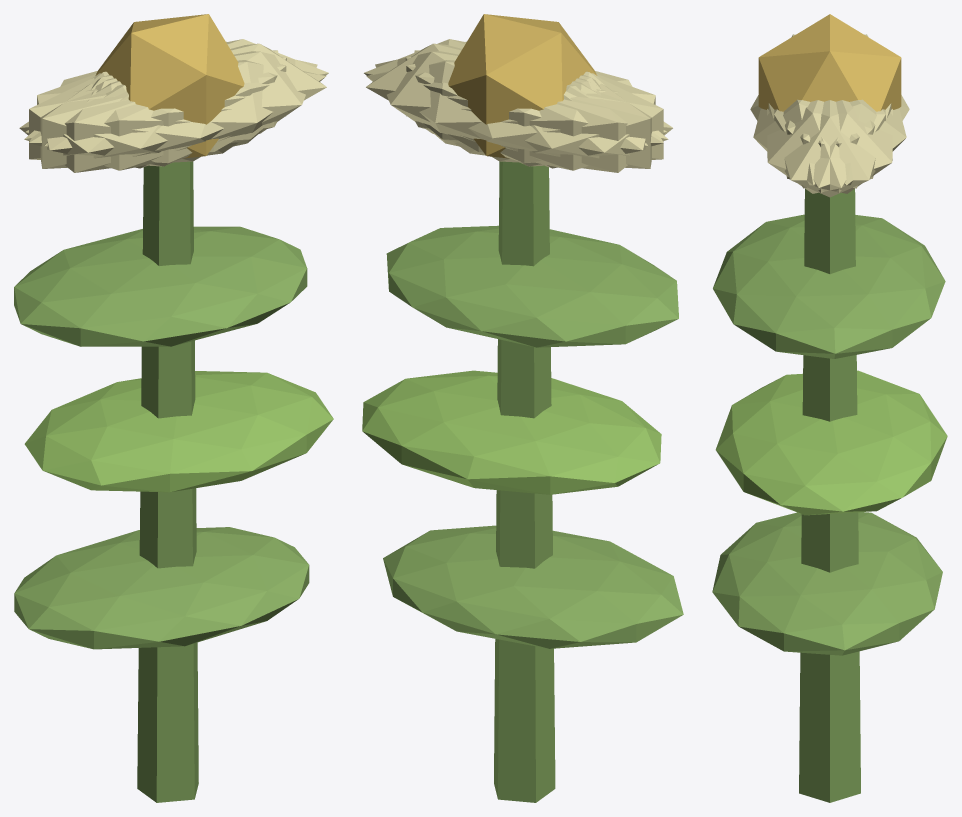
Rendered from episcia-cupreata.glb.
3 views of the same model, side by side, from view 1: azimuth 30°, elevation 25°; view 2: azimuth 150°, elevation 25°; view 3: azimuth 270°, elevation 25° (orthographic).
Parts seen in each view (by area): view 1: leaf2, leaf1, leaf0, stem, center, petal1, petal6, petal2, petal5, petal7, petal0, petal4 (+2 smaller); view 2: leaf1, leaf2, leaf0, stem, center, petal8, petal3, petal7, petal4, petal2, petal0, petal5 (+2 smaller); view 3: leaf1, leaf2, leaf0, stem, center, petal0, petal5, petal4, petal1, petal8.
Part boxes in pixels (bbox=[...]): leaf2: bbox=[14, 226, 307, 346]; leaf1: bbox=[24, 371, 333, 492]; leaf0: bbox=[14, 527, 309, 649]; stem: bbox=[137, 161, 198, 802]; center: bbox=[95, 14, 244, 158]; petal1: bbox=[24, 60, 326, 170]; petal6: bbox=[19, 73, 238, 172]; petal2: bbox=[40, 50, 278, 168]; petal5: bbox=[44, 51, 317, 163]; petal7: bbox=[29, 56, 286, 166]; petal0: bbox=[95, 43, 326, 152]; petal4: bbox=[25, 39, 328, 143]; leaf1: bbox=[362, 370, 661, 494]; leaf2: bbox=[386, 225, 678, 347]; leaf0: bbox=[383, 525, 683, 648]; stem: bbox=[494, 161, 555, 802]; center: bbox=[448, 14, 597, 158]; petal8: bbox=[366, 60, 668, 170]; petal3: bbox=[454, 73, 672, 172]; petal7: bbox=[414, 50, 651, 168]; petal4: bbox=[375, 51, 647, 163]; petal2: bbox=[405, 56, 663, 166]; petal0: bbox=[366, 43, 597, 152]; petal5: bbox=[364, 39, 666, 143]; leaf1: bbox=[715, 370, 947, 515]; leaf2: bbox=[713, 214, 945, 358]; leaf0: bbox=[712, 512, 942, 655]; stem: bbox=[799, 189, 860, 802]; center: bbox=[758, 14, 901, 111]; petal0: bbox=[768, 100, 891, 197]; petal5: bbox=[767, 100, 885, 193]; petal4: bbox=[774, 100, 892, 193]; petal1: bbox=[753, 99, 875, 185]; petal8: bbox=[785, 99, 906, 185].
Bounding box in the file's own units: 0.1497 × 0.3579 × 0.1009.
